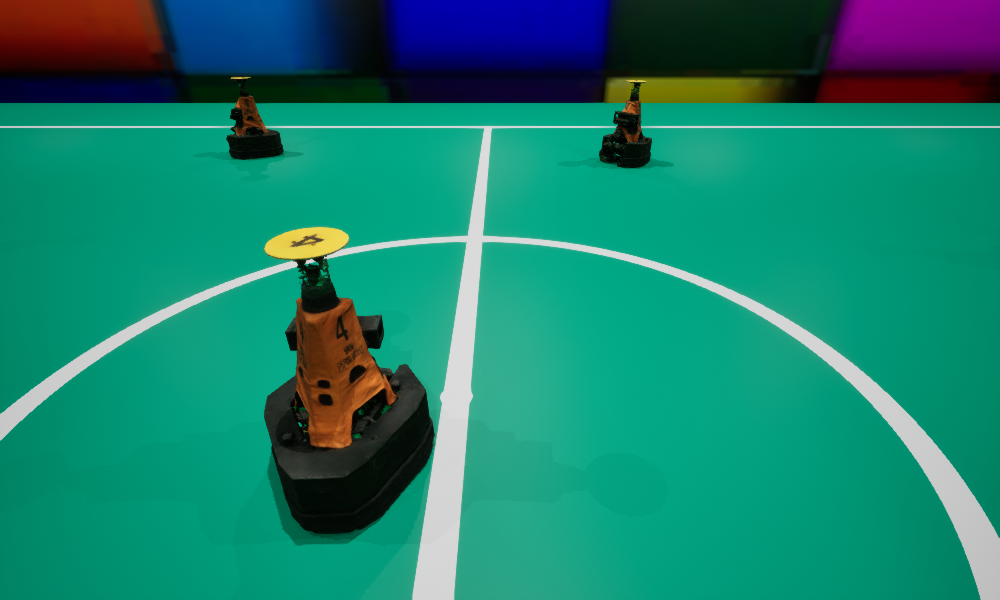0 orange robot TechUnited: (264, 227, 434, 533), (226, 77, 283, 158), (599, 80, 651, 166)
